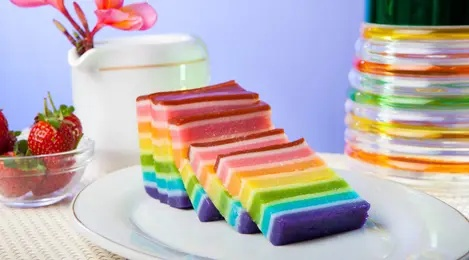kue_lapis_pelangi: (212, 137, 369, 245)
